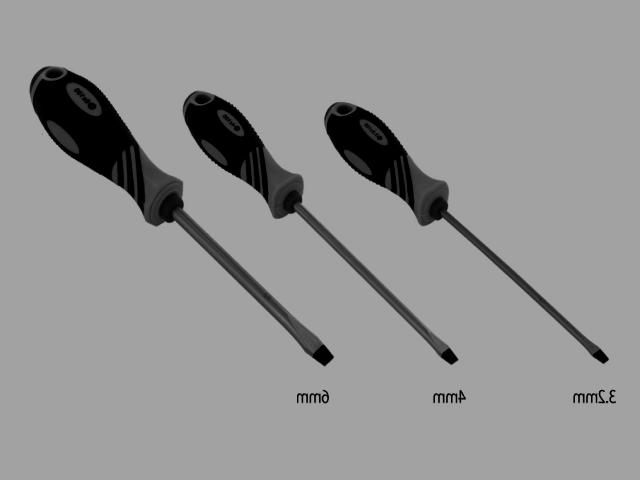Screwdriver: (30, 67, 332, 365), (184, 92, 458, 363), (325, 102, 609, 363)
